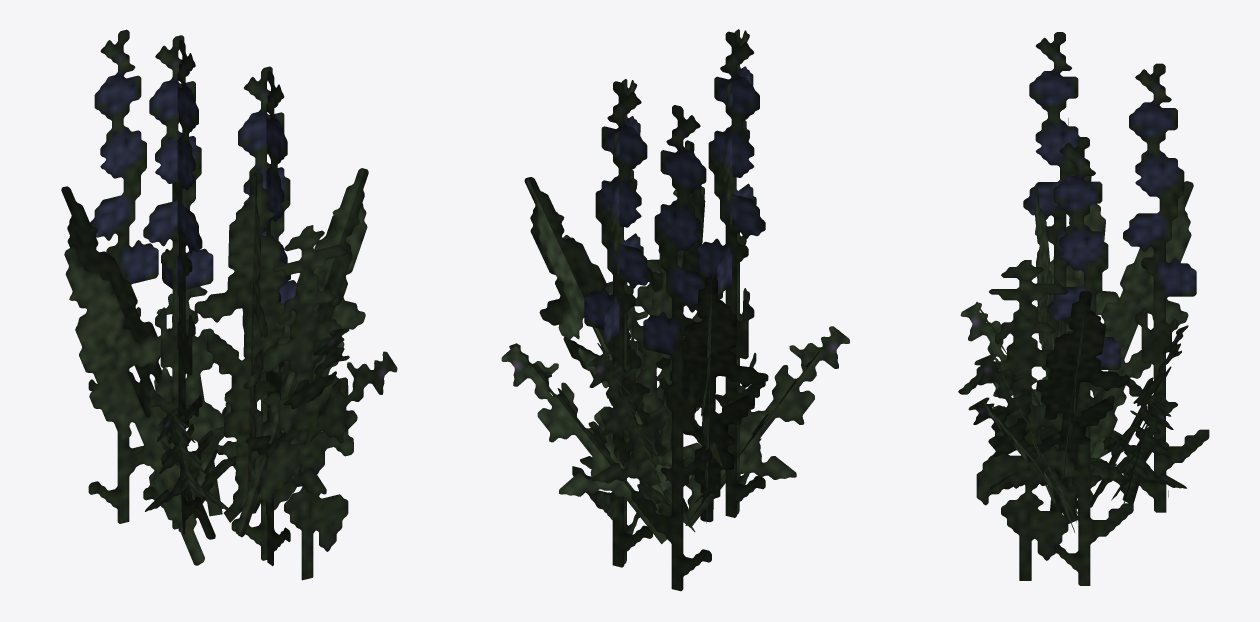
The model's file is SM_EC_Plant_Bush_12.fbx.
3 views of the same model, side by side, from view 1: azimuth 30°, elevation 25°; view 2: azimuth 150°, elevation 25°; view 3: azimuth 270°, elevation 25° (orthographic). The views are drawn at different scales.
Parts seen in each view (by area): view 1: SM_EC_Plant_Bush_12; view 2: SM_EC_Plant_Bush_12; view 3: SM_EC_Plant_Bush_12.
Boxes of the visible parts, bbox=[...] form: SM_EC_Plant_Bush_12: bbox=[61, 29, 397, 580]; SM_EC_Plant_Bush_12: bbox=[501, 29, 849, 591]; SM_EC_Plant_Bush_12: bbox=[958, 32, 1209, 585].
Size of the model in its own units: 1.04 by 0.8321 by 1.44.
